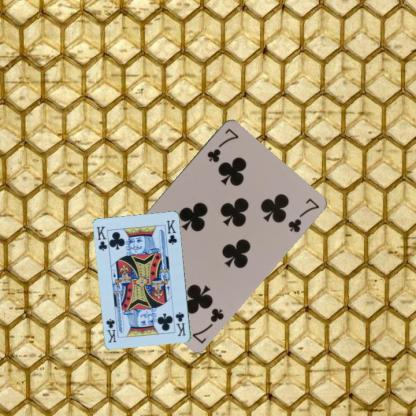7c: (190, 305, 226, 345), (204, 125, 240, 163)
Kc: (94, 223, 109, 252), (172, 310, 186, 337)
